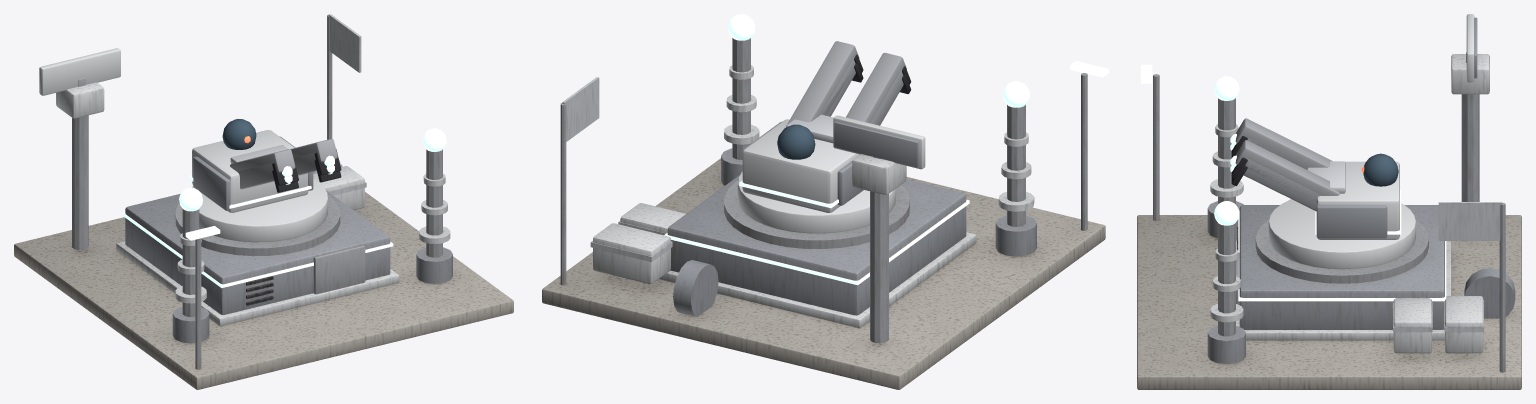
Rendered from west_defense.glb.
3 renders of one model, left to right at view 1: azimuth 30°, elevation 25°; view 2: azimuth 150°, elevation 25°; view 3: azimuth 270°, elevation 25°, orthographic. The views are drawn at different scales.
Parts seen in each view (by area): view 1: Hull, Turret, Barrel, Spin; view 2: Hull, Turret, Barrel, Spin; view 3: Hull, Turret, Barrel, Spin.
Part boxes in pixels (x1,y1,x2,y2): Hull: (14, 14, 513, 389); Turret: (189, 119, 327, 242); Barrel: (230, 139, 341, 192); Spin: (39, 48, 120, 95); Hull: (542, 14, 1108, 389); Turret: (737, 114, 895, 233); Barrel: (785, 41, 911, 127); Spin: (833, 115, 925, 169); Hull: (1137, 54, 1521, 389); Turret: (1268, 153, 1415, 269); Barrel: (1230, 118, 1339, 211); Spin: (1466, 14, 1477, 82).
Size of the model in its own units: 6.08 by 3.72 by 6.
Materials: 16 (8 with a texture image).
